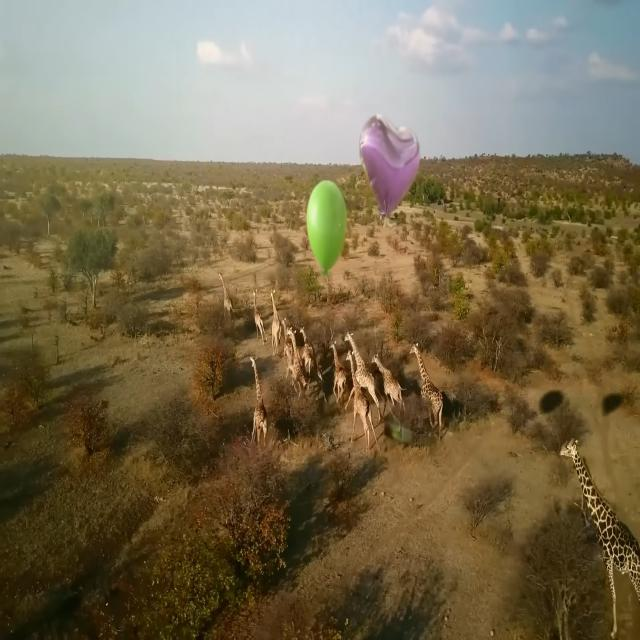balloon: (360, 116, 419, 216), (307, 180, 345, 273)
